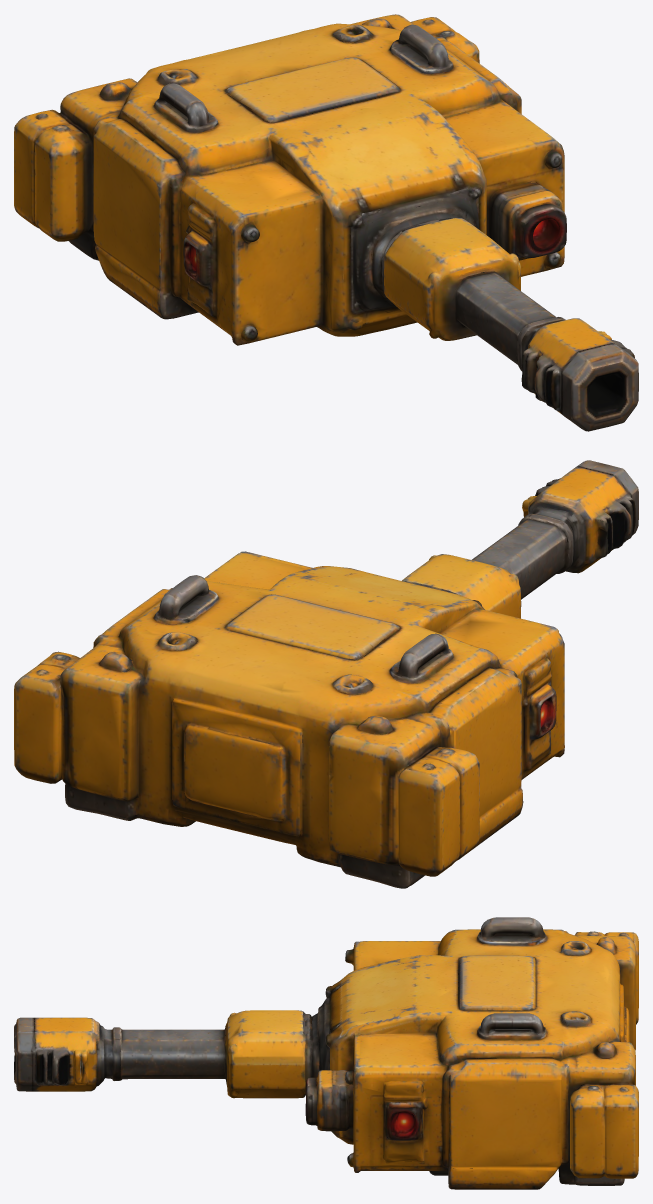
The model's file is NV_L1_Starter_Model.fbx.
3 renders of one model, top to bottom at view 1: azimuth 30°, elevation 25°; view 2: azimuth 150°, elevation 25°; view 3: azimuth 270°, elevation 25°, orthographic. The views are drawn at different scales.
Parts seen in each view (by area): view 1: tripo_node_62e7c61d-4d4f-473e-a150-19af7134c986.001, tripo_node_62e7c61d-4d4f-473e-a150-19af7134c986.002; view 2: tripo_node_62e7c61d-4d4f-473e-a150-19af7134c986.001, tripo_node_62e7c61d-4d4f-473e-a150-19af7134c986.002; view 3: tripo_node_62e7c61d-4d4f-473e-a150-19af7134c986.001, tripo_node_62e7c61d-4d4f-473e-a150-19af7134c986.002.
Boxes of the visible parts, bbox=[...] form: tripo_node_62e7c61d-4d4f-473e-a150-19af7134c986.001: bbox=[14, 14, 566, 345]; tripo_node_62e7c61d-4d4f-473e-a150-19af7134c986.002: bbox=[384, 218, 638, 431]; tripo_node_62e7c61d-4d4f-473e-a150-19af7134c986.001: bbox=[14, 551, 564, 888]; tripo_node_62e7c61d-4d4f-473e-a150-19af7134c986.002: bbox=[402, 460, 638, 618]; tripo_node_62e7c61d-4d4f-473e-a150-19af7134c986.001: bbox=[305, 917, 638, 1189]; tripo_node_62e7c61d-4d4f-473e-a150-19af7134c986.002: bbox=[14, 1010, 308, 1098].
Bounding box in the file's own units: 64.86 × 32.62 × 100.
